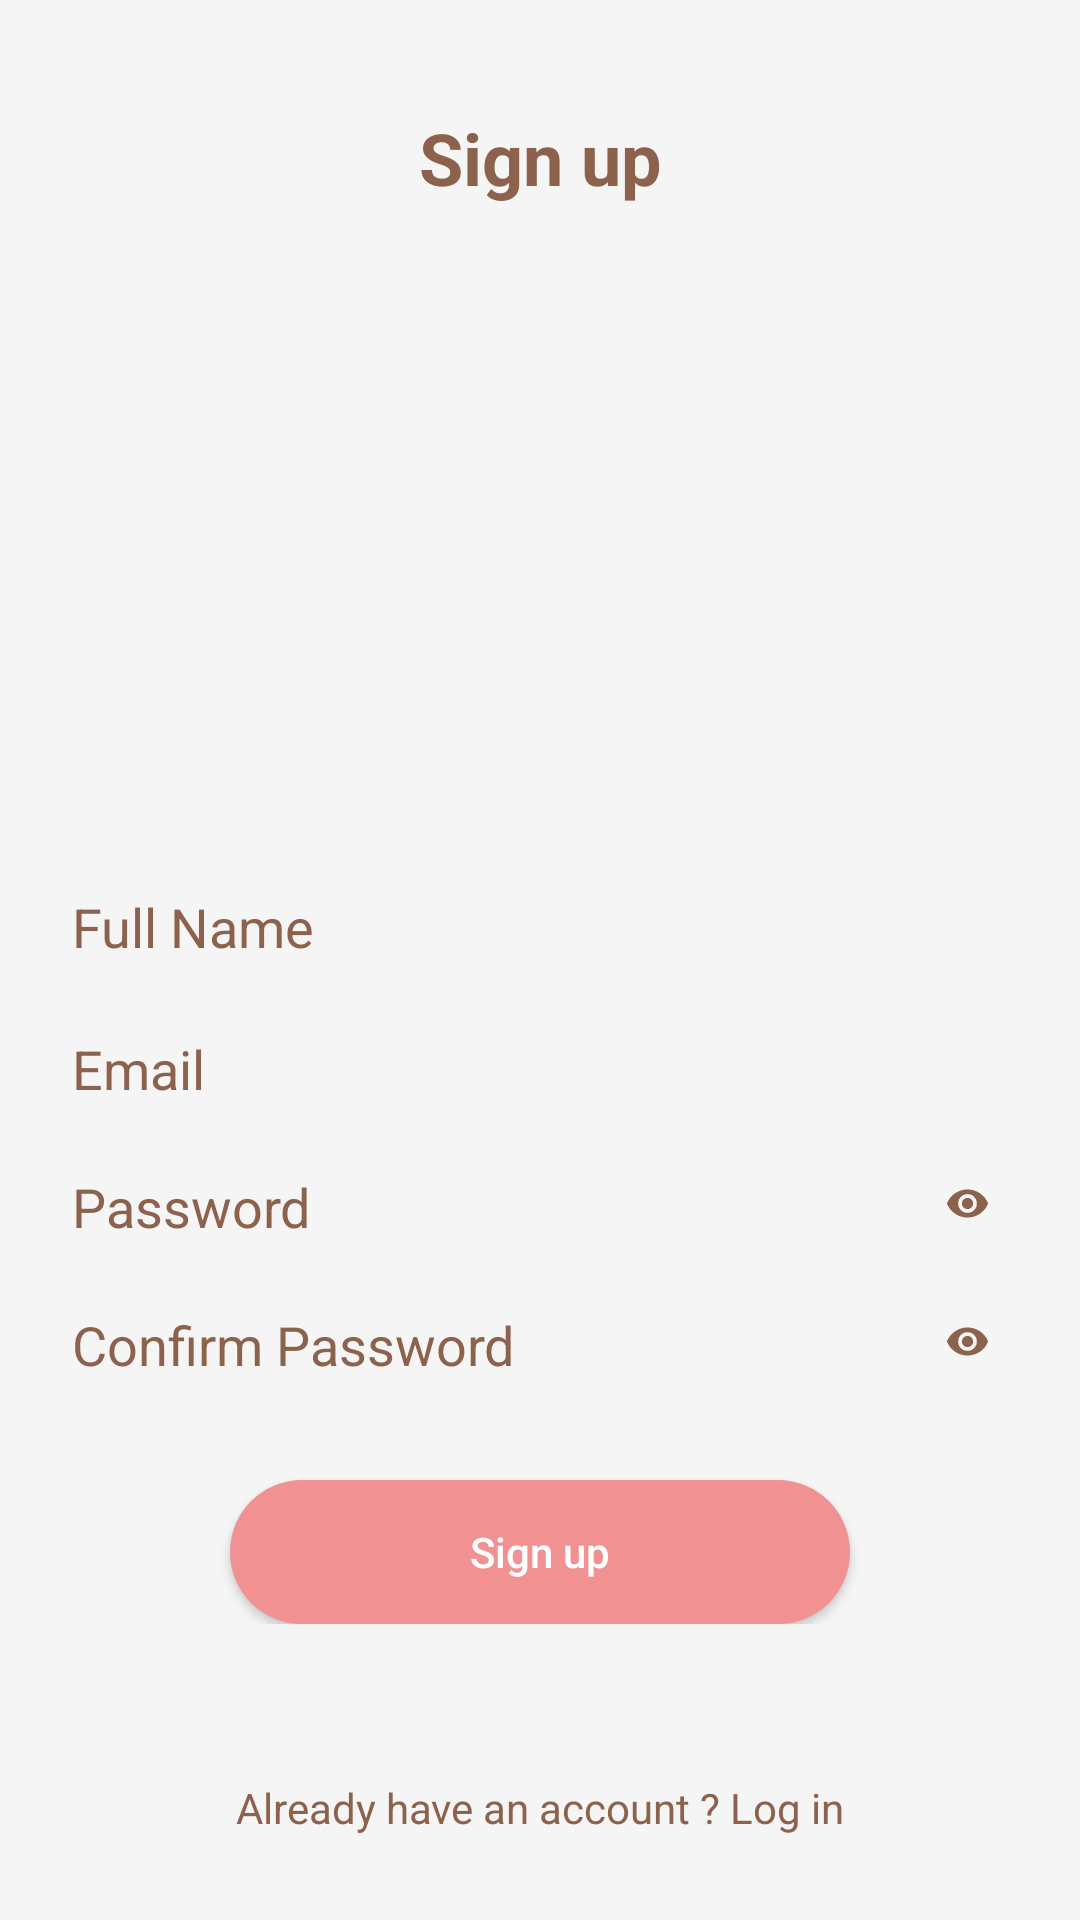

Named icons in this screenshot (1080*1920) and their bounding boxes, (x1, y1, x2, y2):
remove eye: (947, 1189, 988, 1218), (947, 1327, 988, 1356)
